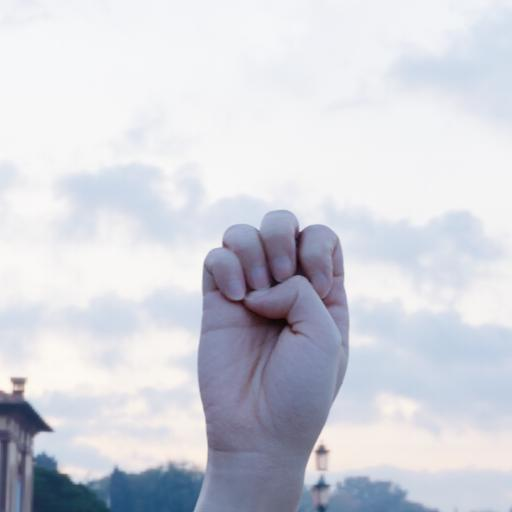E: (197, 207, 352, 465)
